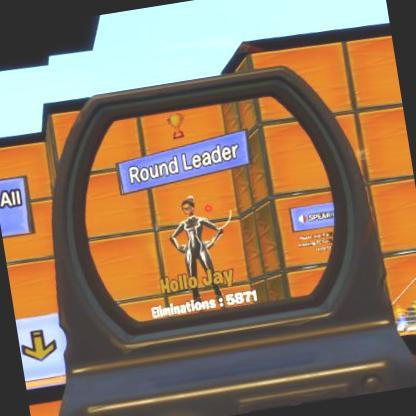person: (172, 202, 223, 302)
